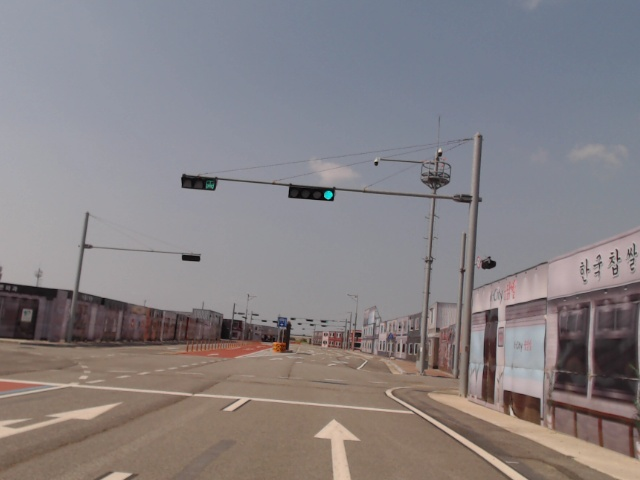straight_green_4: (288, 184, 337, 202)
